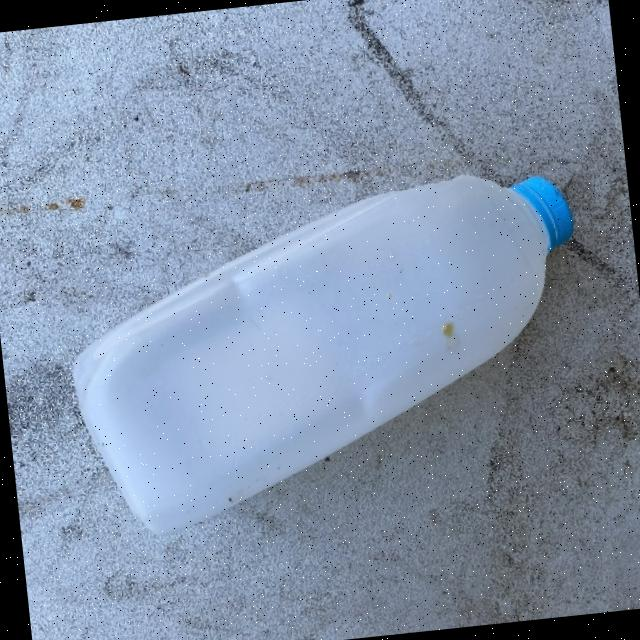plastic: (54, 162, 600, 542)
